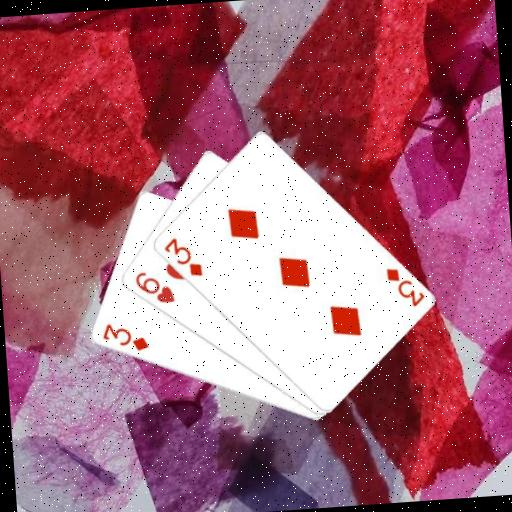3D: (159, 232, 205, 280), (383, 262, 427, 310), (98, 318, 151, 355)
6H: (131, 267, 176, 307)
